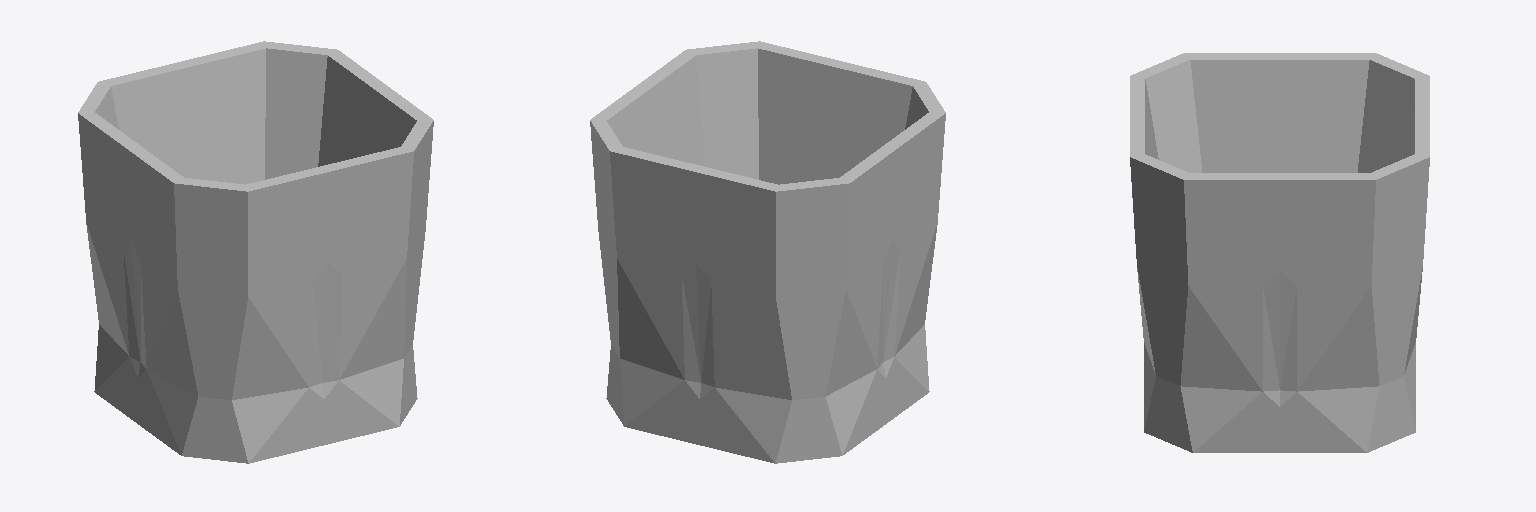
Rendered from Tumbler_A__1.obj.
3 views of the same model, side by side, from view 1: azimuth 30°, elevation 25°; view 2: azimuth 150°, elevation 25°; view 3: azimuth 270°, elevation 25° (orthographic).
Parts seen in each view (by area): view 1: Cube1; view 2: Cube1; view 3: Cube1.
Boxes of the visible parts, x1=… form: Cube1: x1=78, y1=41, x2=433, y2=463; Cube1: x1=590, y1=41, x2=945, y2=463; Cube1: x1=1130, y1=53, x2=1429, y2=452.
Size of the model in its own units: 2.2 by 2.26 by 2.2.